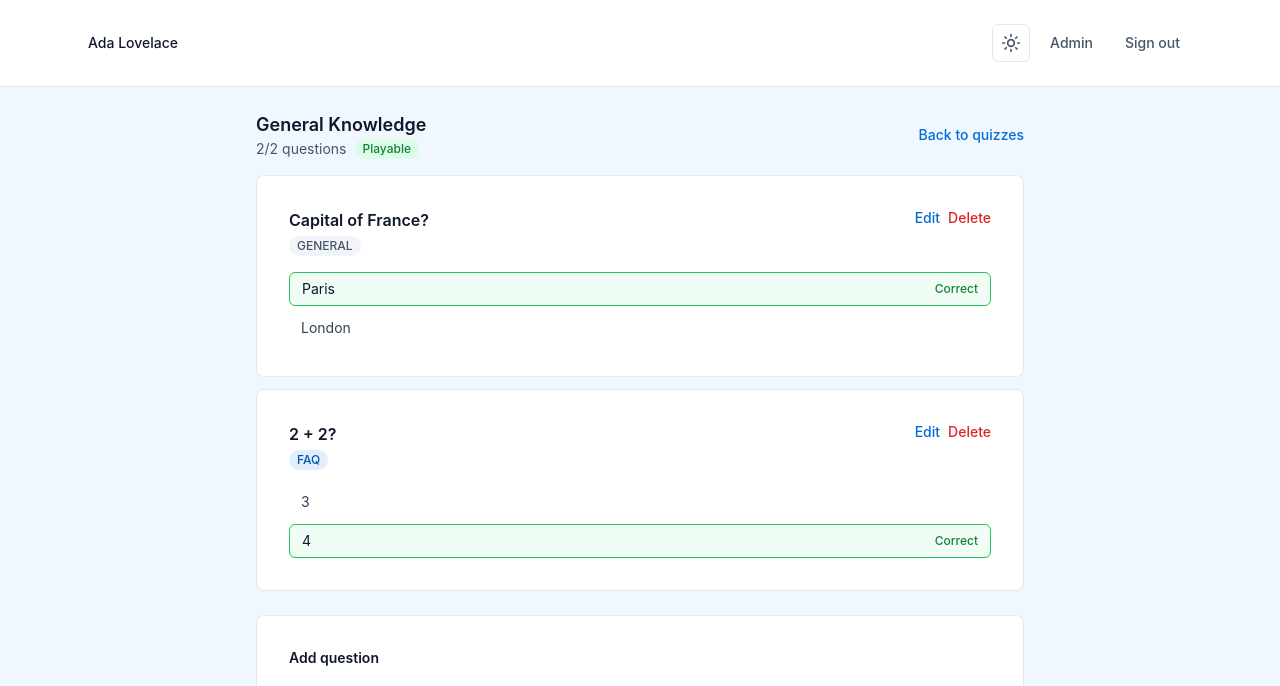
Test: AdminQuestions › should_save_inline_edit_via_put
Expected: the text "Capital of France?" is shown, 289,208 -> 429,232
Click the button "Edit" in the row of "Capital of France?": [927, 218] box 915,208 -> 940,228
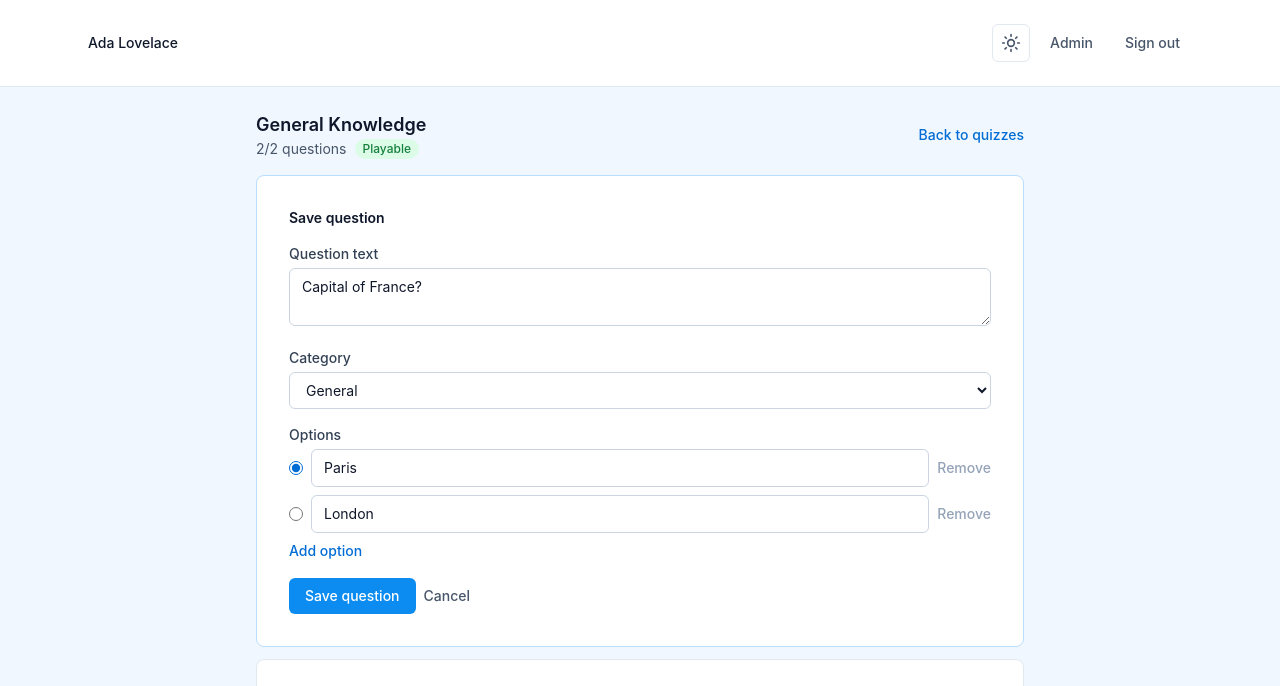
Now the text box labelled "Question text" holds "Capital of France?"
Replace the text in the text box labelled "Question text" with "Capital of Germany?": [640, 297] box 289,268 -> 991,326
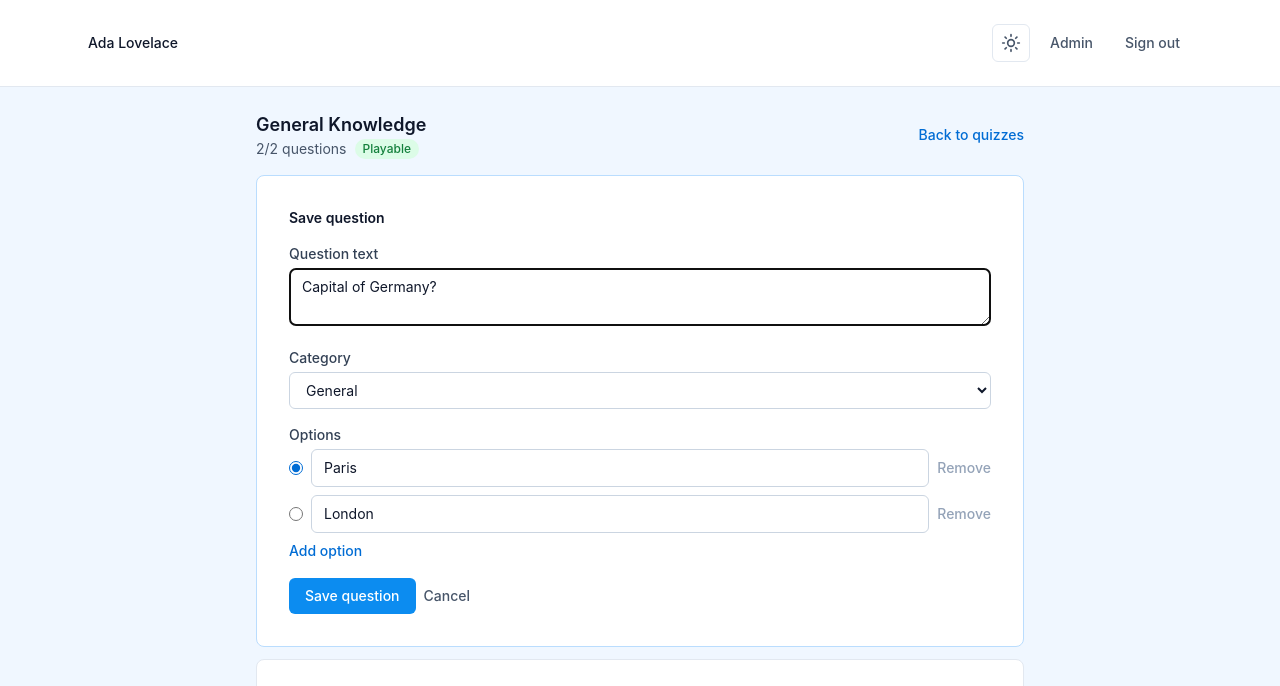
Replace the text in the 1st field with "Berlin": [620, 468] box 311,449 -> 929,487
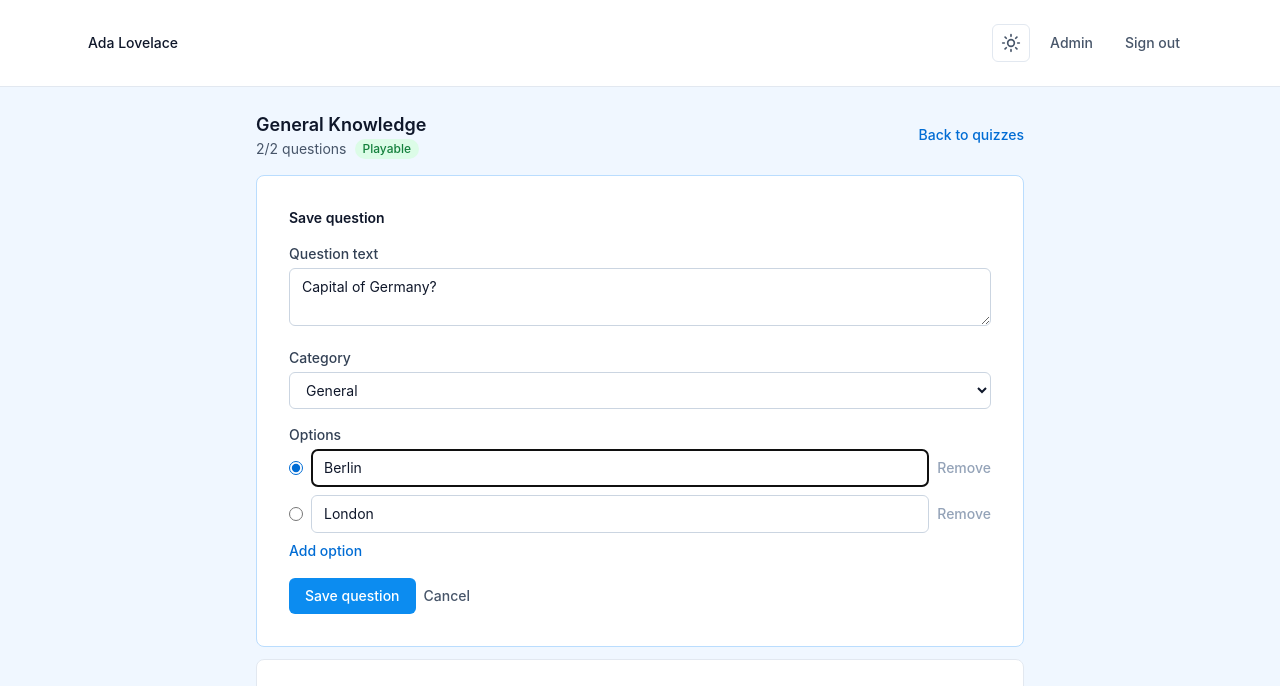
Click the button "Save question": [352, 596] box 289,578 -> 416,614
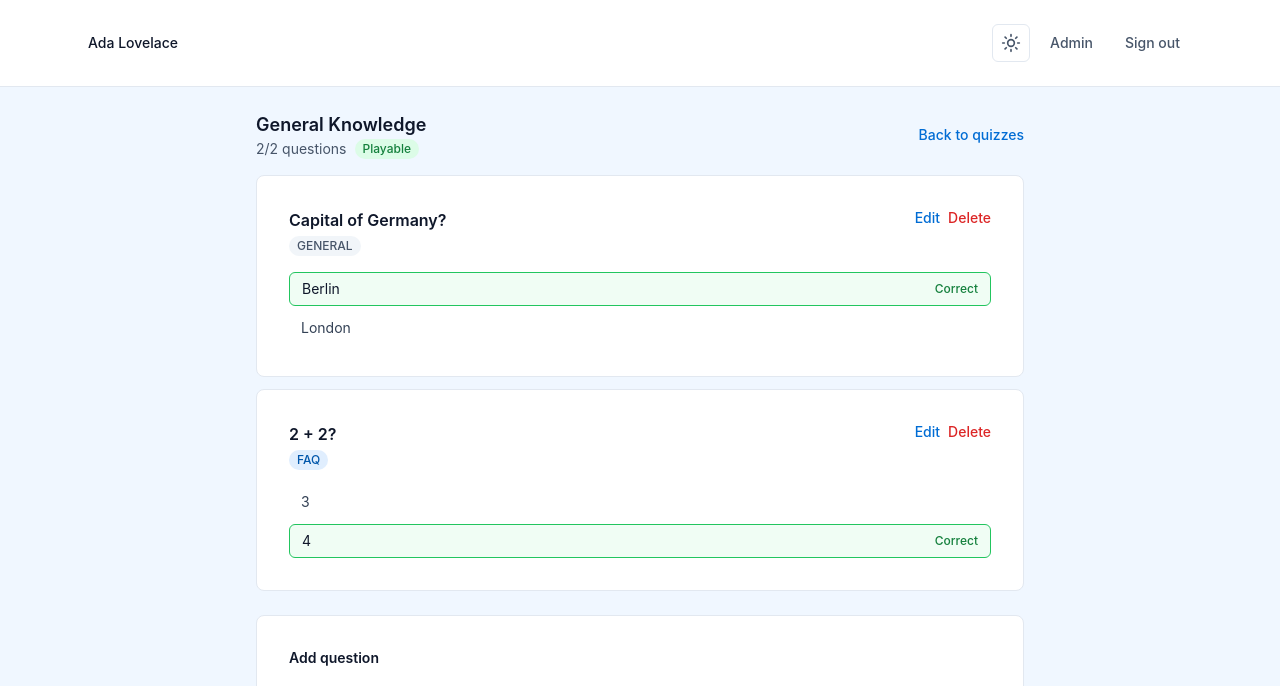
Now the text "Capital of Germany?" is shown, box 289,208 -> 446,232
Now the list item "Berlin" shows "Correct", box 935,281 -> 978,296
